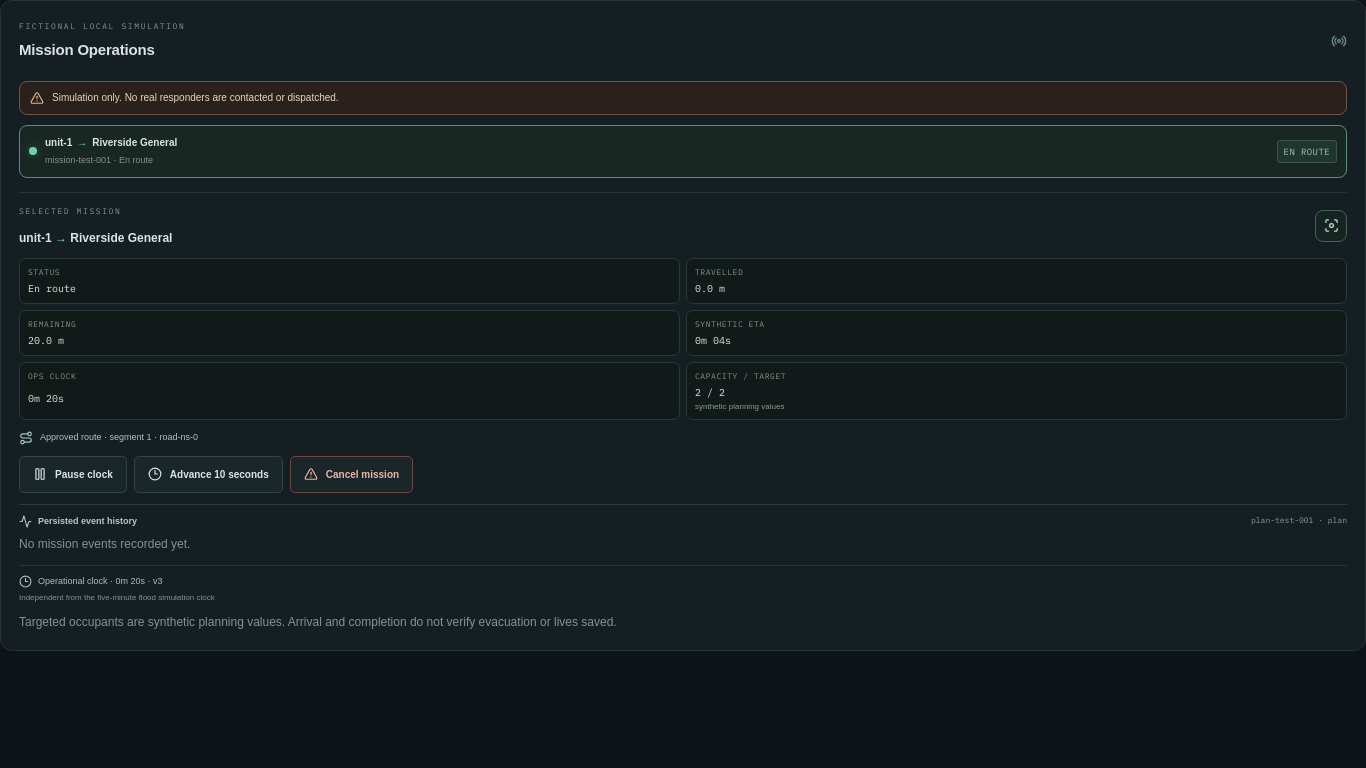
Test: Mission Operations panel › applies the authoritative clock advance response to the visible time, distance, position and mission status
expect the text "20.0 m" is shown: met, box [28, 334, 64, 346]
Click the button "Advance 10 seconds" at (208, 474), box [134, 456, 283, 492]
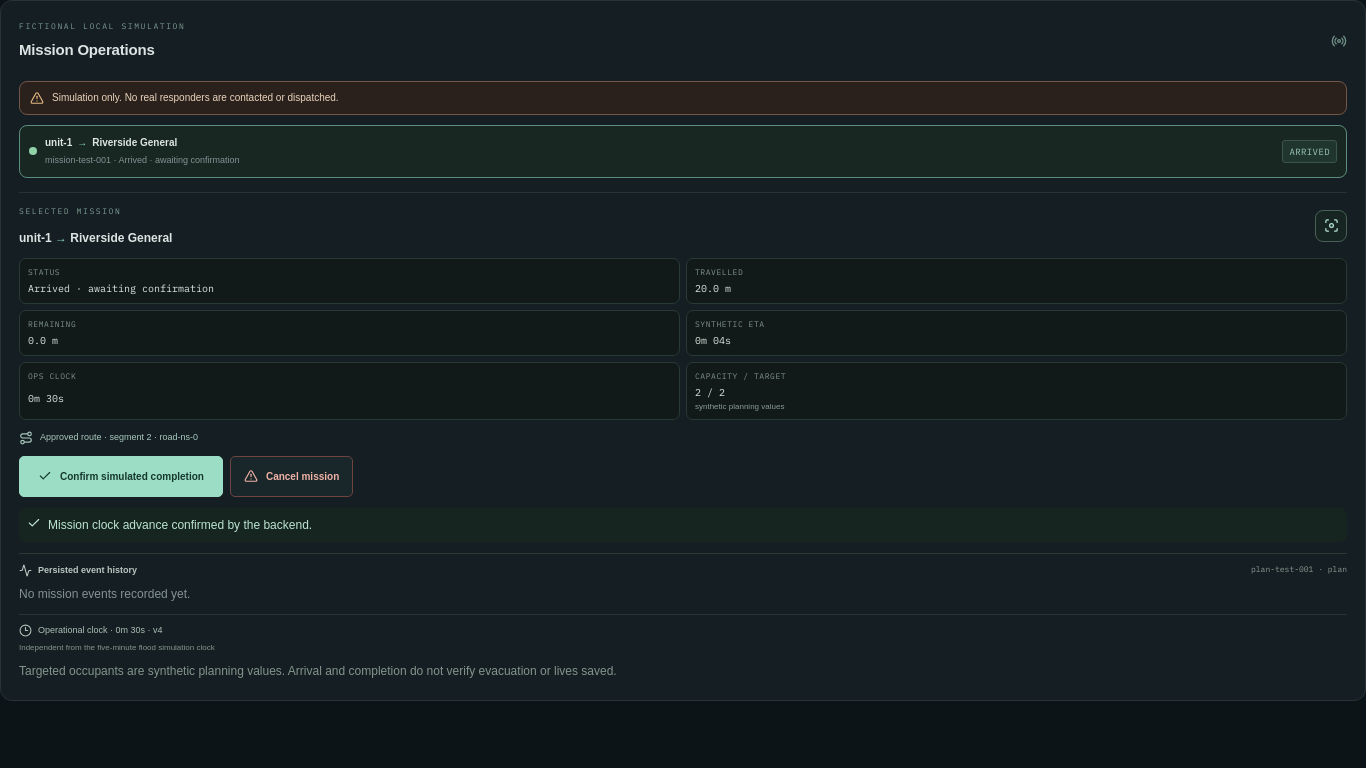
expect the text "0m 30s" is shown: met, box [28, 392, 64, 404]
expect the text "Arrived · awaiting confirmation" is shown: met, box [28, 282, 214, 294]
expect the text "Mission clock advance confirmed by the backend." is shown: met, box [19, 508, 1347, 542]
